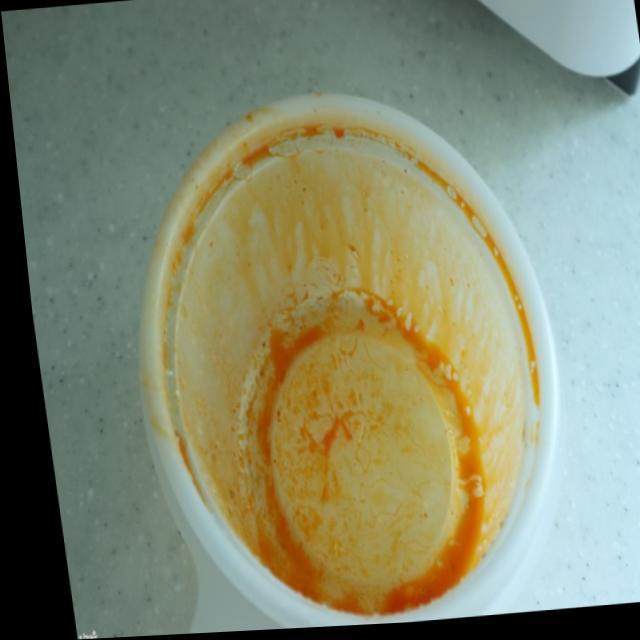container: (124, 81, 602, 640)
